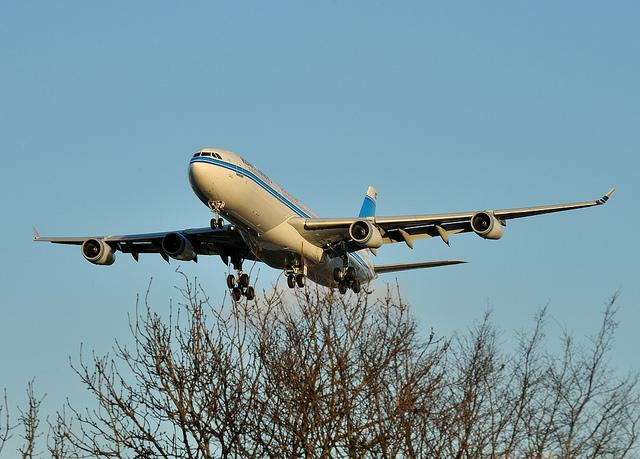airplane: (28, 145, 618, 295)
